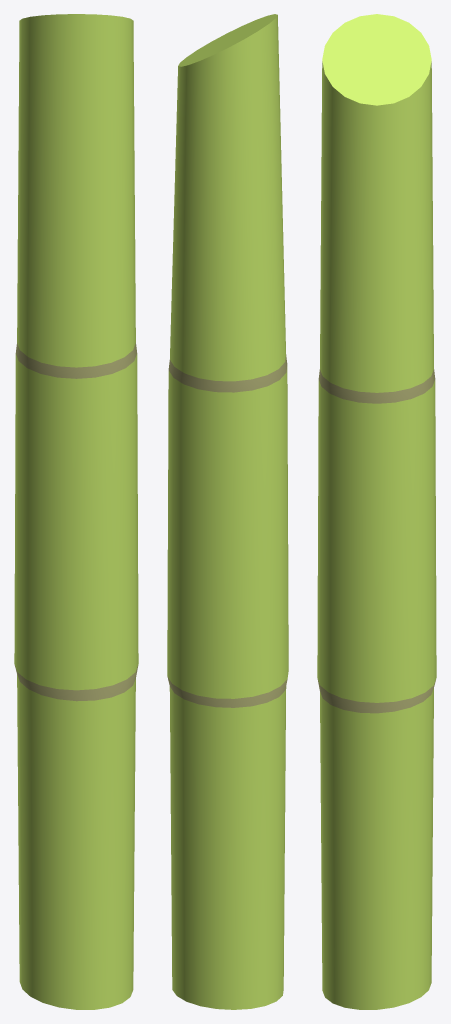
Rendered from BambuV1.fbx.
The picture shows the model from 3 angles, left to right: view 1: azimuth 90°, elevation 25°; view 2: azimuth 150°, elevation 25°; view 3: azimuth 270°, elevation 25°; orthographic projection. The views are drawn at different scales.
Visible parts, largest first — view 1: Rama_Bambu; view 2: Rama_Bambu; view 3: Rama_Bambu.
Boxes of the visible parts, x1,y1,x2,y2 form: Rama_Bambu: (14, 14, 138, 1009); Rama_Bambu: (167, 14, 288, 1009); Rama_Bambu: (317, 14, 436, 1009).
Size of the model in its own units: 0.6861 by 6.08 by 0.6861.
